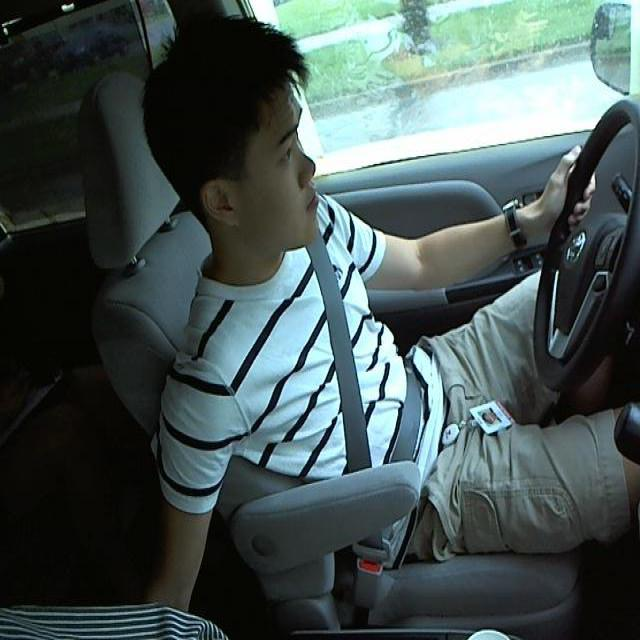seatbelt: (303, 247, 419, 472)
